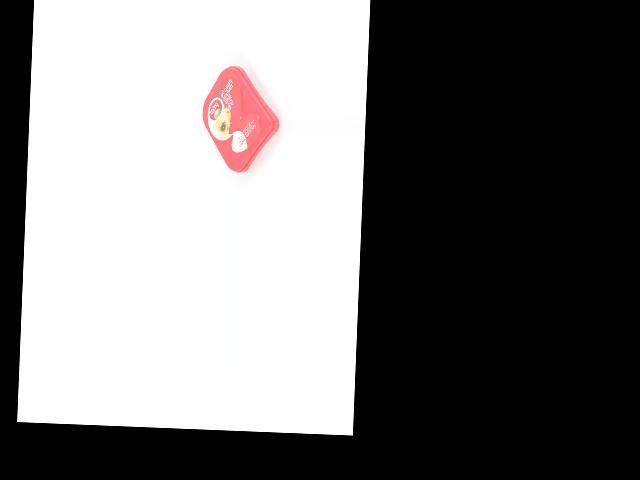cheese: (199, 64, 282, 174)
